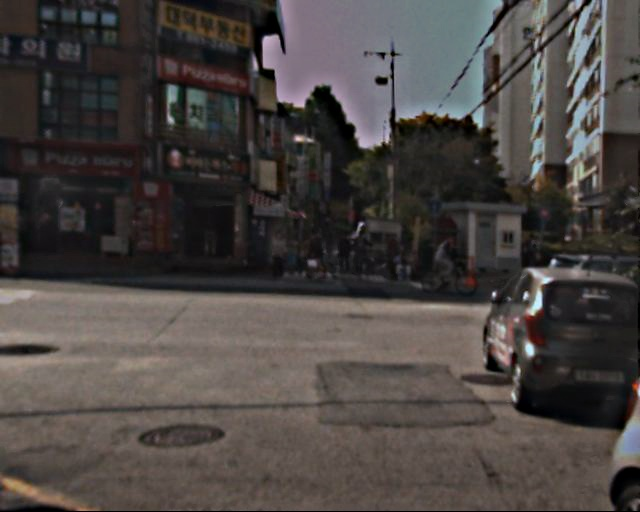person: (306, 228, 328, 281), (436, 234, 457, 286), (269, 229, 289, 278), (524, 235, 544, 283), (386, 235, 405, 281), (354, 231, 372, 276), (337, 233, 354, 274), (398, 246, 413, 282), (326, 225, 338, 255)
